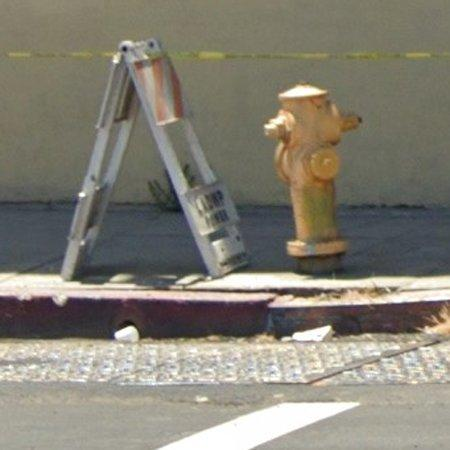a fire hydrant: (265, 84, 362, 273)
